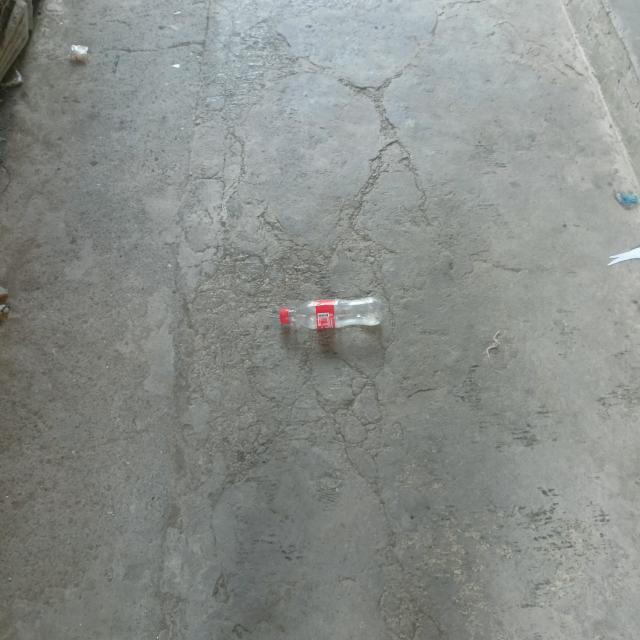Bottle: (279, 297, 382, 329)
